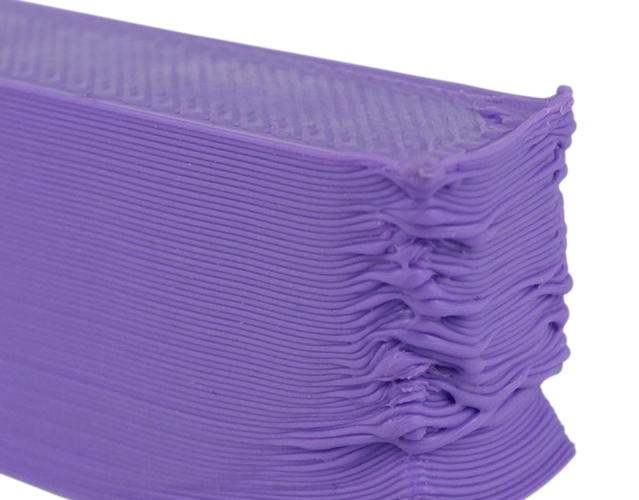Fail: (5, 10, 616, 500)
